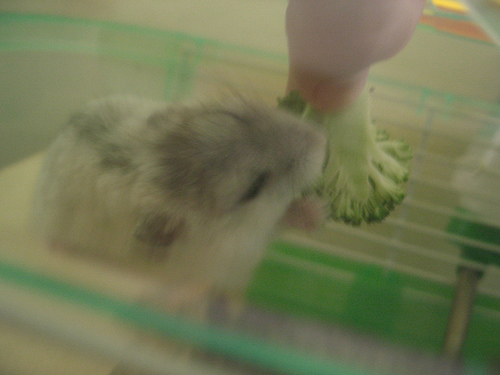broccoli: (277, 83, 414, 229)
